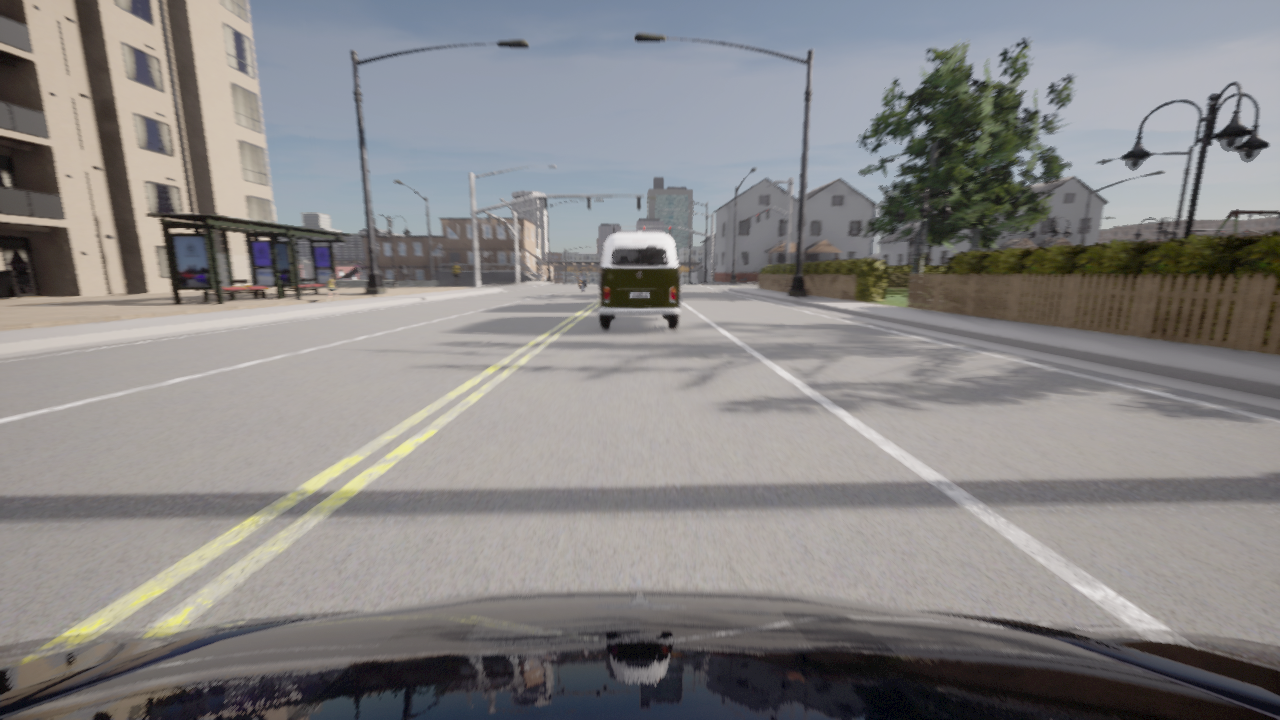cyclist: (0, 588, 1279, 719), (598, 233, 681, 328), (576, 273, 588, 292), (617, 231, 663, 233)
pedestrian: (327, 274, 337, 302), (452, 262, 460, 286)
